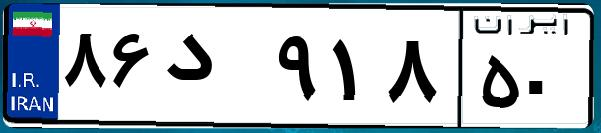0: (525, 38, 570, 115)
1: (330, 28, 385, 110)
5: (475, 38, 525, 113)
6: (110, 28, 158, 98)
8: (385, 28, 445, 110), (57, 26, 110, 100)
9: (270, 28, 330, 110)
د: (158, 20, 270, 120)
